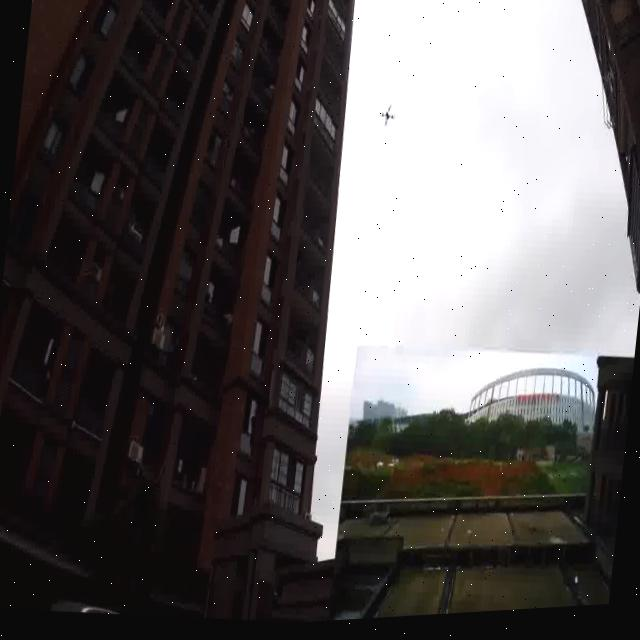drone: (377, 103, 397, 130)
